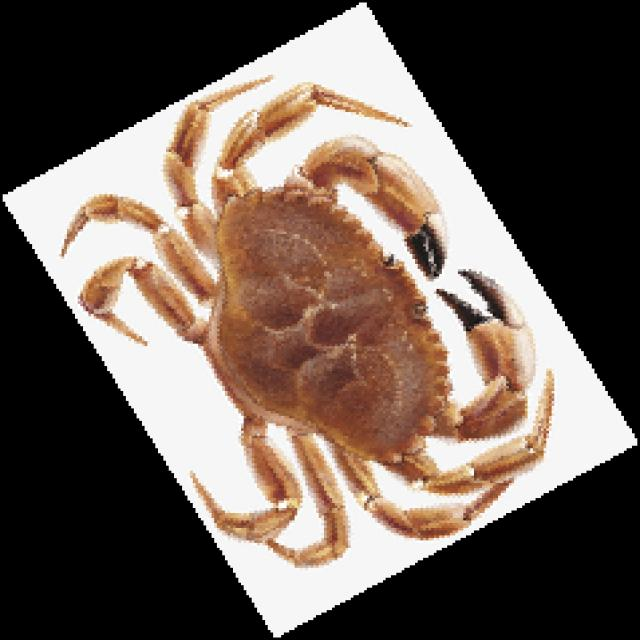Native Jonah crab: (62, 77, 552, 565)
